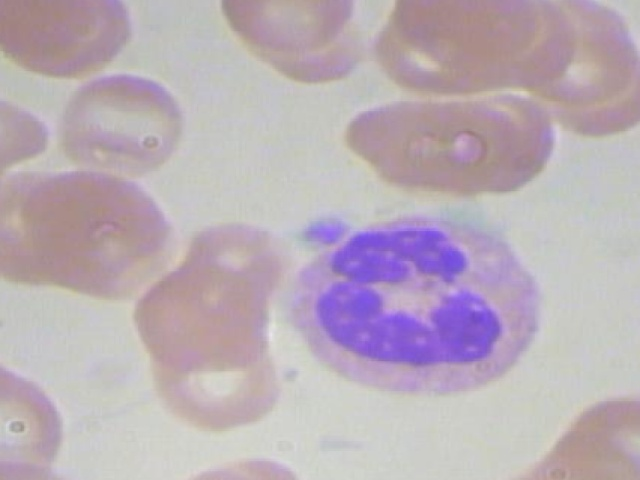RBC: (18, 165, 200, 309), (332, 94, 522, 204), (123, 264, 283, 372), (48, 62, 193, 179), (137, 337, 289, 435), (397, 0, 540, 69), (0, 365, 79, 473), (213, 0, 357, 57), (0, 0, 110, 66), (629, 300, 640, 407)
WBC: (264, 202, 550, 406)
